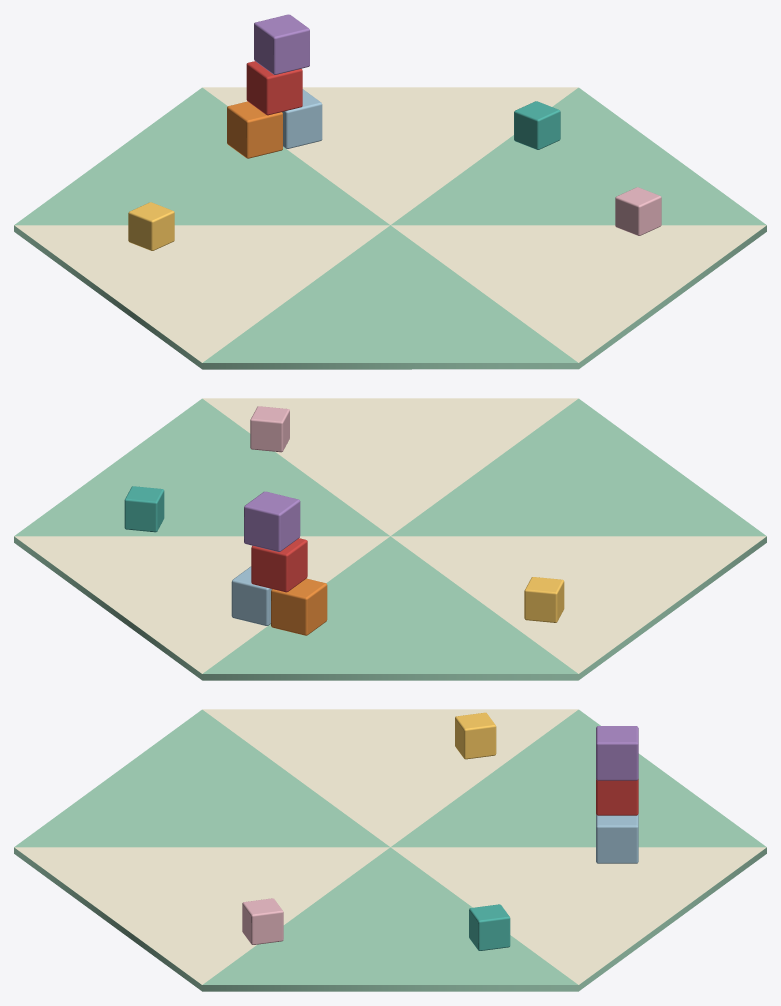
The model's file is blocks-plaza.glb.
The picture shows the model from 3 angles, top to bottom: view 1: azimuth 30°, elevation 25°; view 2: azimuth 150°, elevation 25°; view 3: azimuth 270°, elevation 25°; orthographic projection.
Visible parts, largest first — view 1: WhitePavingWedge (×6), ScatteredCube (×3), HexagonalPaving, StackedCube_3, StackedCube_0, StackedCube_2, StackedCube_1; view 2: WhitePavingWedge (×6), HexagonalPaving, ScatteredCube (×3), StackedCube_3, StackedCube_0, StackedCube_2, StackedCube_1; view 3: WhitePavingWedge (×6), HexagonalPaving, ScatteredCube (×3), StackedCube_3, StackedCube_1, StackedCube_2.
Part boxes in pixels (<box>): WhitePavingWedge (×6): <box>14,87,766,362</box>; ScatteredCube (×3): <box>128,101,661,250</box>; HexagonalPaving: <box>14,225,766,369</box>; StackedCube_3: <box>254,14,309,74</box>; StackedCube_0: <box>227,101,282,158</box>; StackedCube_2: <box>246,61,302,115</box>; StackedCube_1: <box>282,89,322,148</box>; WhitePavingWedge (×6): <box>14,398,766,673</box>; HexagonalPaving: <box>14,536,766,680</box>; ScatteredCube (×3): <box>124,406,564,622</box>; StackedCube_3: <box>244,491,300,551</box>; StackedCube_0: <box>271,578,327,635</box>; StackedCube_2: <box>251,538,307,592</box>; StackedCube_1: <box>231,566,271,625</box>; WhitePavingWedge (×6): <box>14,709,766,984</box>; HexagonalPaving: <box>14,847,766,991</box>; ScatteredCube (×3): <box>242,712,510,950</box>; StackedCube_3: <box>596,726,638,780</box>; StackedCube_1: <box>596,814,638,863</box>; StackedCube_2: <box>596,779,638,815</box>.
Bounding box in the file's own units: 46 × 9.5 × 53.12.
